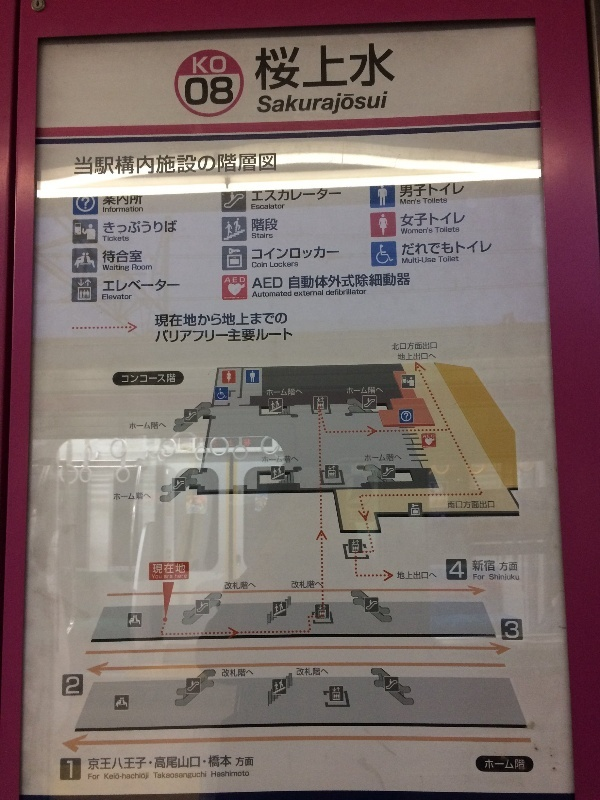text: (257, 41, 272, 92), (273, 41, 288, 92), (289, 41, 304, 92), (305, 41, 320, 92), (321, 41, 336, 92), (337, 41, 352, 92), (353, 41, 368, 92), (369, 41, 384, 92), (385, 41, 396, 92), (193, 76, 208, 105), (209, 76, 224, 105), (257, 91, 272, 118), (273, 91, 288, 118), (289, 91, 304, 118), (305, 91, 320, 118), (321, 91, 336, 118), (337, 91, 352, 118), (353, 91, 368, 118), (369, 91, 384, 118), (81, 153, 96, 176), (97, 153, 112, 176), (113, 153, 128, 176), (129, 153, 144, 176), (145, 153, 160, 176), (161, 153, 176, 176), (177, 153, 192, 176), (193, 153, 208, 176), (209, 153, 224, 176), (225, 153, 240, 176), (241, 153, 256, 176), (257, 153, 272, 176), (97, 754, 112, 773), (113, 754, 128, 773), (129, 754, 144, 773), (145, 754, 160, 773), (161, 754, 176, 773), (177, 754, 192, 773), (193, 754, 208, 773), (209, 754, 224, 773), (193, 56, 208, 74), (209, 56, 224, 74), (289, 273, 304, 291), (305, 273, 320, 291), (321, 273, 336, 291), (337, 273, 352, 291), (353, 273, 368, 291), (369, 273, 384, 291), (385, 273, 400, 291), (225, 76, 234, 105), (67, 676, 80, 695), (449, 183, 465, 198), (417, 240, 432, 256), (433, 240, 448, 256), (449, 240, 464, 256), (465, 240, 480, 256), (450, 562, 464, 579), (67, 761, 80, 779), (257, 245, 272, 260), (273, 245, 288, 260), (289, 245, 304, 260), (305, 245, 320, 260), (321, 245, 336, 260), (401, 183, 416, 198), (417, 183, 432, 198), (433, 183, 448, 198), (161, 312, 176, 327), (177, 312, 192, 327), (193, 312, 208, 327), (209, 312, 224, 327), (225, 312, 240, 327), (241, 312, 256, 327), (257, 312, 272, 327), (161, 328, 176, 343), (177, 328, 192, 343), (193, 328, 208, 343), (209, 328, 224, 343), (225, 328, 240, 343), (241, 328, 256, 343), (257, 328, 272, 343), (273, 328, 288, 343), (161, 220, 177, 234), (449, 213, 465, 227), (402, 240, 416, 256), (113, 220, 128, 234), (129, 220, 144, 234), (145, 220, 160, 234), (113, 250, 128, 264), (113, 279, 128, 293), (129, 279, 144, 293), (145, 279, 160, 293), (161, 279, 176, 293), (257, 188, 272, 202), (273, 188, 288, 202), (289, 188, 304, 202), (305, 188, 320, 202), (321, 188, 336, 202), (257, 218, 272, 232), (401, 213, 416, 227), (417, 213, 432, 227), (433, 213, 448, 227), (273, 312, 287, 327), (129, 250, 143, 264), (257, 277, 272, 290), (481, 240, 492, 256), (186, 76, 192, 105), (497, 759, 512, 770), (161, 563, 176, 574), (401, 273, 410, 291), (481, 560, 495, 571), (129, 374, 144, 384), (145, 374, 160, 384), (161, 374, 176, 384), (241, 756, 254, 767), (161, 771, 176, 780), (177, 771, 192, 780), (113, 196, 128, 205), (145, 422, 160, 431), (273, 455, 288, 464), (129, 492, 144, 501), (225, 581, 240, 590), (241, 581, 256, 590), (305, 580, 320, 589), (401, 571, 416, 580), (417, 571, 432, 580), (401, 342, 416, 351), (417, 342, 432, 351), (225, 669, 240, 678), (89, 754, 96, 773), (225, 754, 232, 773), (513, 759, 525, 770), (273, 277, 283, 290), (193, 771, 207, 780), (129, 196, 143, 205), (103, 250, 112, 264), (103, 279, 112, 293), (130, 422, 144, 431), (114, 492, 128, 501), (505, 620, 512, 638), (485, 759, 496, 770), (113, 773, 128, 781), (129, 773, 144, 781), (225, 770, 240, 778), (273, 389, 288, 397), (353, 387, 368, 395), (369, 387, 384, 395), (369, 454, 384, 462), (385, 454, 400, 462), (449, 501, 464, 509), (465, 501, 480, 509), (401, 353, 416, 361), (417, 353, 432, 361), (500, 562, 512, 572), (305, 668, 320, 676), (241, 669, 254, 678), (75, 153, 80, 176), (104, 220, 112, 234), (417, 227, 433, 234), (289, 389, 303, 397), (481, 501, 495, 509), (292, 580, 304, 589), (513, 620, 519, 638), (113, 206, 128, 213), (257, 291, 272, 298), (273, 291, 288, 298), (305, 290, 320, 297), (337, 289, 352, 296), (401, 227, 416, 234), (417, 257, 432, 264), (497, 574, 512, 581), (129, 206, 143, 213), (353, 289, 367, 296), (402, 257, 416, 264), (113, 236, 129, 242), (257, 233, 273, 239), (212, 770, 224, 778), (273, 153, 277, 176), (113, 265, 128, 271), (113, 294, 128, 300), (257, 204, 272, 210), (273, 261, 288, 267), (401, 199, 416, 205), (262, 455, 272, 464), (289, 455, 299, 464), (177, 563, 185, 574), (433, 198, 447, 204), (385, 91, 388, 118), (103, 196, 112, 205), (435, 227, 448, 233), (473, 560, 480, 571), (153, 563, 160, 574), (225, 278, 240, 283), (155, 312, 160, 327), (132, 264, 144, 270), (273, 204, 285, 210), (241, 770, 250, 778), (392, 342, 400, 351), (326, 289, 336, 296), (273, 218, 278, 232), (438, 256, 448, 263), (449, 256, 459, 263), (449, 227, 460, 233), (321, 668, 329, 676), (103, 206, 112, 213), (295, 290, 304, 297), (153, 771, 160, 780), (102, 294, 112, 300), (257, 262, 267, 268), (289, 261, 299, 267), (252, 245, 256, 260), (156, 328, 160, 343), (289, 328, 293, 343), (122, 374, 128, 384), (88, 773, 96, 780), (105, 773, 112, 781), (252, 188, 256, 202), (337, 188, 341, 202), (252, 218, 256, 232), (297, 668, 304, 676), (103, 236, 112, 242), (103, 265, 112, 271), (423, 198, 432, 204), (161, 422, 167, 431), (145, 492, 151, 501), (513, 562, 518, 572), (177, 574, 187, 579), (513, 574, 520, 581), (164, 575, 176, 579), (236, 756, 240, 767), (145, 264, 152, 270), (177, 279, 180, 293), (490, 574, 496, 581), (267, 389, 272, 397), (347, 387, 352, 395), (152, 574, 160, 579), (253, 277, 256, 290), (225, 56, 227, 74), (433, 571, 437, 580), (433, 342, 437, 351), (474, 574, 480, 580), (145, 773, 149, 781), (337, 245, 339, 260), (252, 291, 256, 298), (423, 435, 432, 438), (252, 204, 256, 210), (252, 233, 256, 239), (252, 262, 256, 268), (417, 199, 421, 205), (365, 454, 368, 462), (433, 353, 436, 361), (481, 574, 485, 580), (289, 291, 292, 298), (97, 773, 100, 780), (433, 257, 436, 264), (241, 278, 245, 283), (129, 294, 132, 300), (321, 580, 323, 589), (398, 571, 400, 580), (222, 669, 224, 678), (398, 353, 400, 361), (321, 290, 323, 297), (270, 261, 272, 267), (401, 454, 402, 462), (447, 501, 448, 509), (129, 265, 130, 271), (433, 435, 435, 438), (161, 574, 162, 579), (175, 574, 176, 579)
